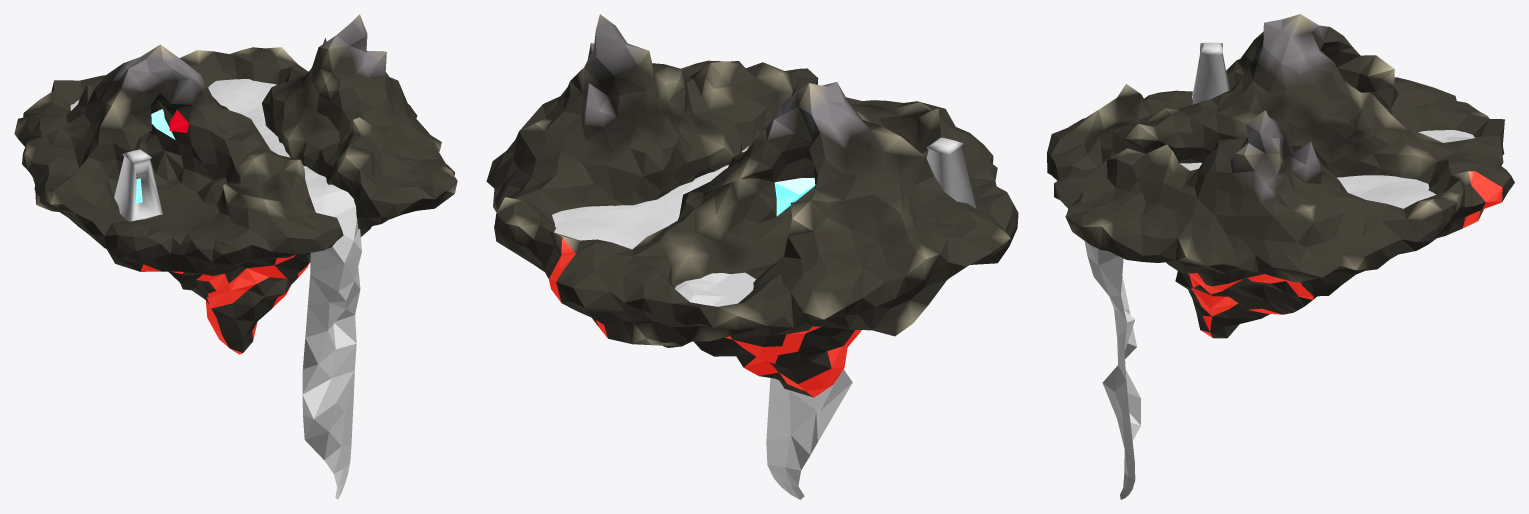
File: CyberPunk.fbx
The picture shows the model from 3 angles, left to right: view 1: azimuth 30°, elevation 25°; view 2: azimuth 150°, elevation 25°; view 3: azimuth 270°, elevation 25°; orthographic projection. The views are drawn at different scales.
Visible parts, largest first — view 1: Main, Plane, Building, Lava; view 2: Main, Plane, Lava, Building, Blue; view 3: Main, Plane, Lava, Building.
Boxes of the visible parts, x1,y1,x2,y2 form: Main: (14, 14, 457, 352); Plane: (70, 79, 361, 499); Building: (114, 149, 162, 221); Lava: (140, 254, 308, 354); Main: (486, 14, 1018, 397); Plane: (552, 145, 852, 499); Lava: (549, 237, 861, 397); Building: (926, 137, 976, 208); Blue: (774, 178, 815, 216); Main: (1047, 14, 1514, 338); Plane: (1084, 130, 1474, 499); Lava: (1078, 171, 1502, 337); Building: (1192, 42, 1229, 104).
Size of the model in its own units: 8078 by 8329 by 8056.
